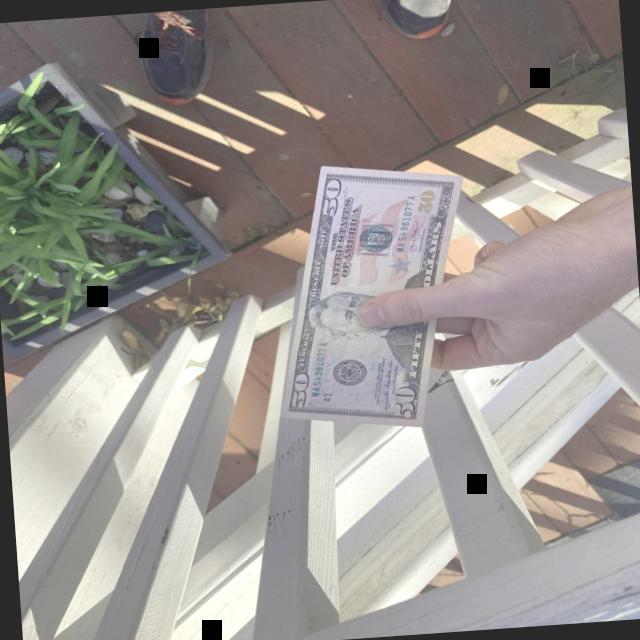fifty: (283, 165, 463, 426)
